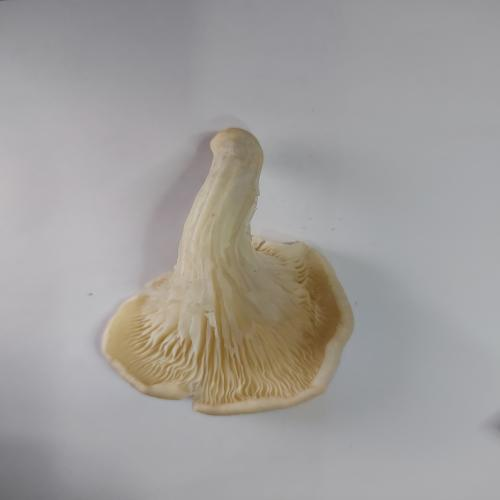Oyster Mushroom: (100, 126, 355, 416)
